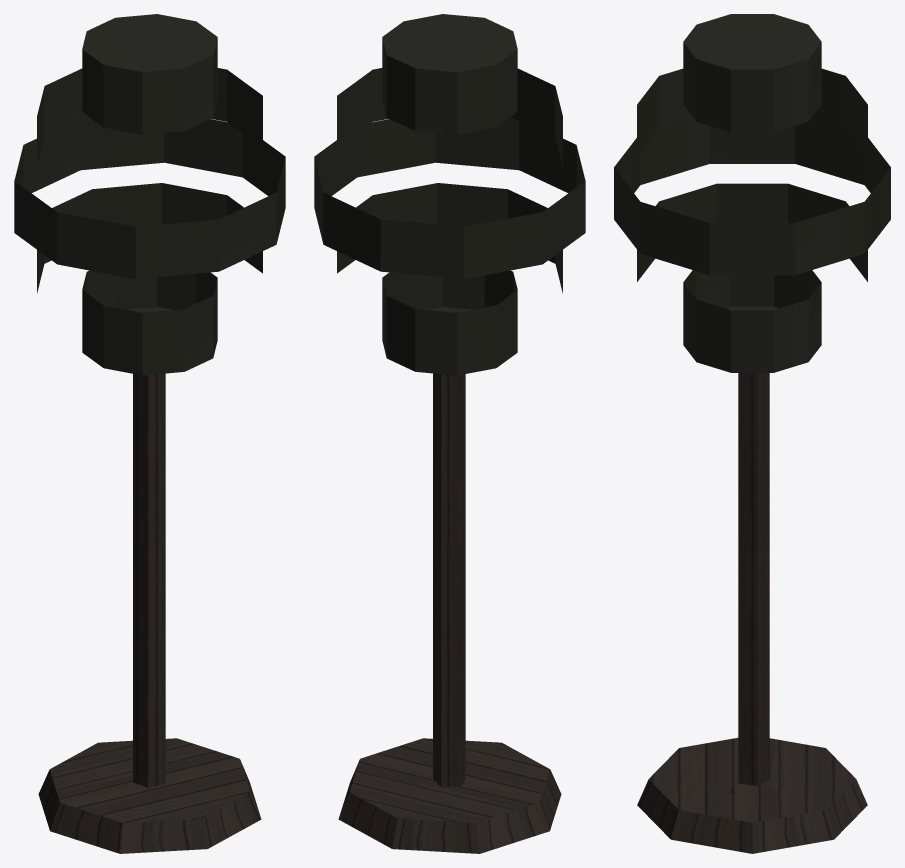
Rendered from globe_stand_01.glb.
3 views of the same model, side by side, from view 1: azimuth 30°, elevation 25°; view 2: azimuth 150°, elevation 25°; view 3: azimuth 270°, elevation 25° (orthographic).
Visible parts, largest first — view 1: globe_stand_01; view 2: globe_stand_01; view 3: globe_stand_01.
Part boxes in pixels (left/top/right/bottom): globe_stand_01: left=14, top=14, right=285, bottom=853; globe_stand_01: left=314, top=14, right=585, bottom=853; globe_stand_01: left=614, top=14, right=890, bottom=853.
Bounding box in the file's own units: 0.4565 × 1.46 × 0.48.
2 materials, 2 textured.
